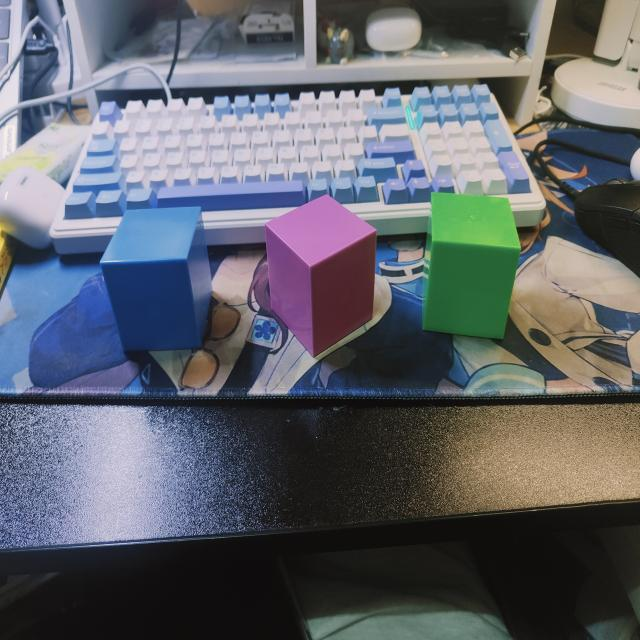blue: (98, 204, 213, 356)
green: (420, 195, 521, 341)
pink: (266, 194, 378, 360)
